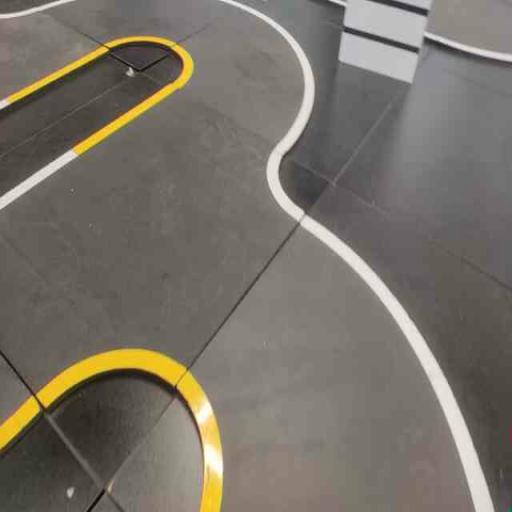left: (103, 166, 511, 511)
